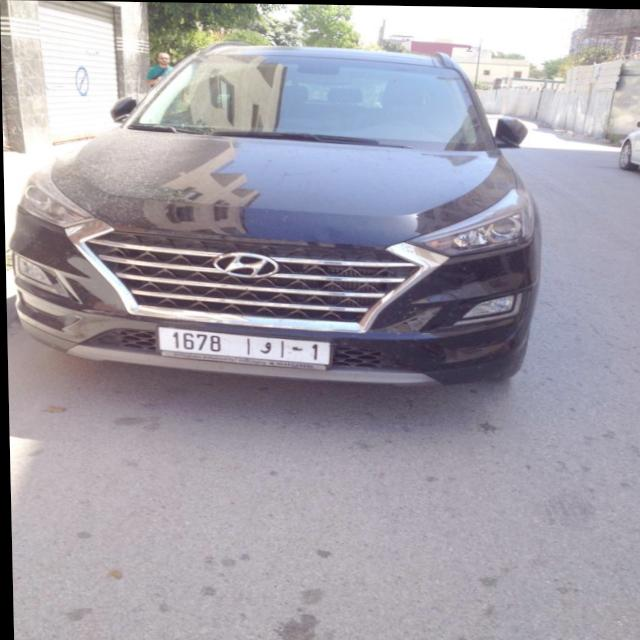License-Plate: (156, 327, 329, 368)
